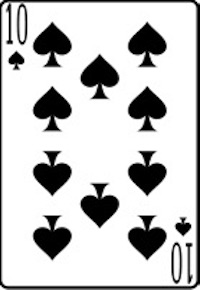TenOfSpades: (1, 2, 199, 290)
